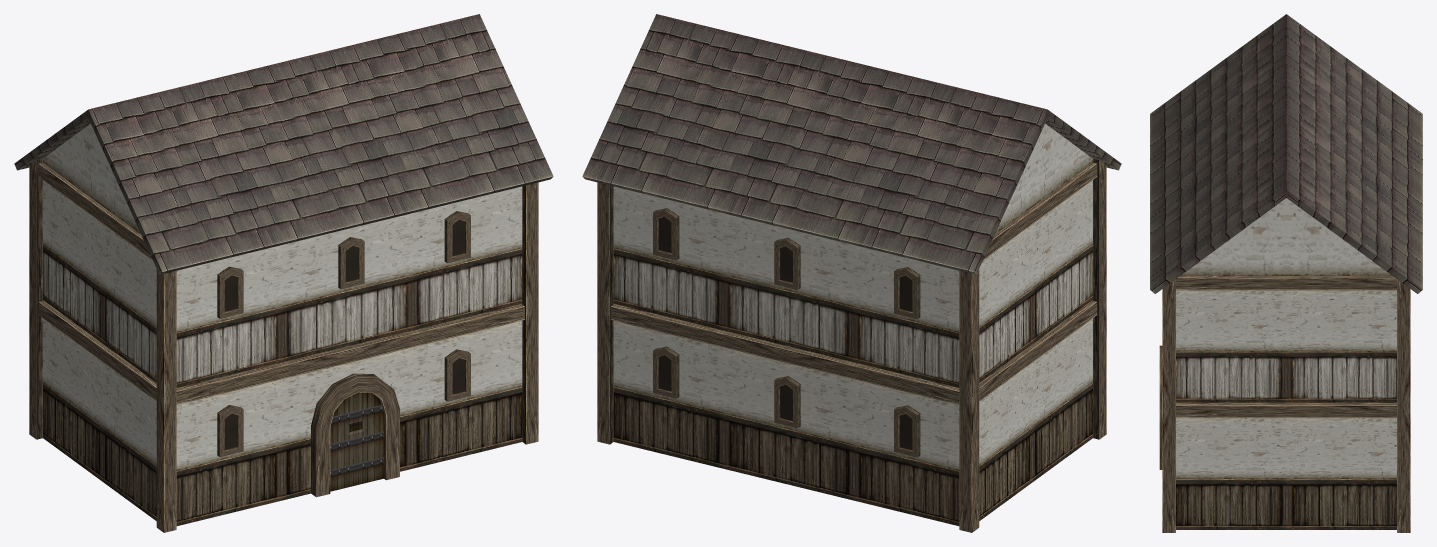
File: CastleHouse06.FBX
3 views of the same model, side by side, from view 1: azimuth 30°, elevation 25°; view 2: azimuth 150°, elevation 25°; view 3: azimuth 270°, elevation 25° (orthographic). The views are drawn at different scales.
Parts seen in each view (by area): view 1: CastleHouse06; view 2: CastleHouse06; view 3: CastleHouse06.
Boxes of the visible parts, x1,y1,x2,y2 form: CastleHouse06: (14, 14, 553, 532); CastleHouse06: (582, 14, 1121, 532); CastleHouse06: (1150, 14, 1422, 532).
Size of the model in its own units: 1201 by 1103 by 787.
